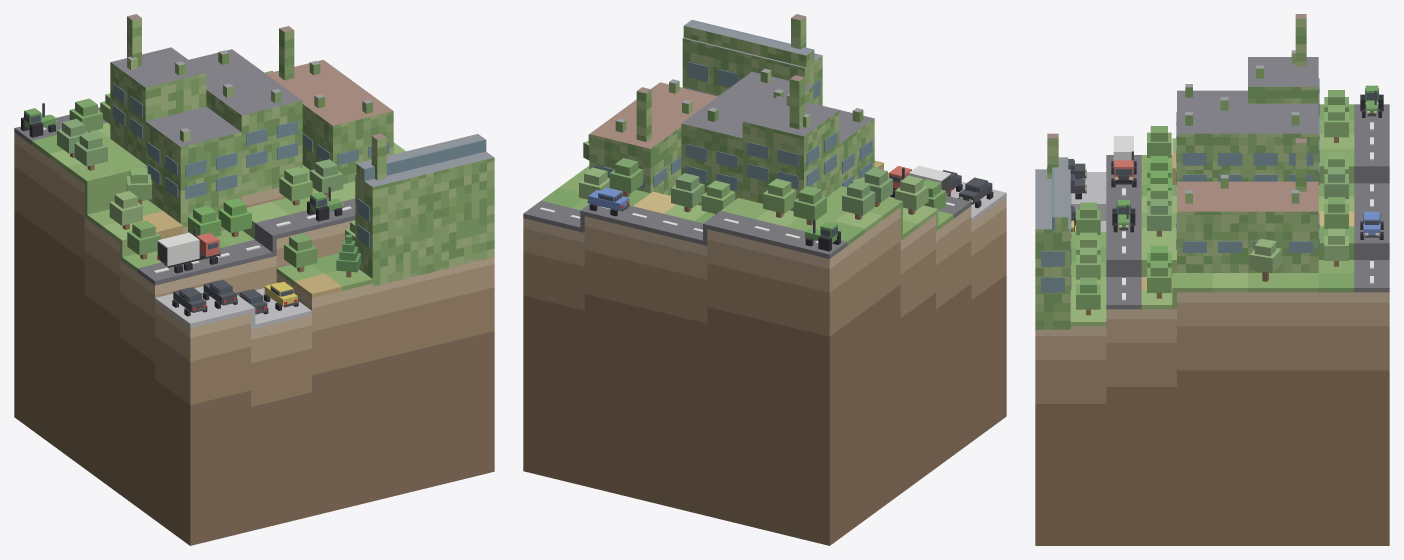
Rendered from block_11_greenfacade_45.glb.
The picture shows the model from 3 angles, left to right: view 1: azimuth 30°, elevation 25°; view 2: azimuth 150°, elevation 25°; view 3: azimuth 270°, elevation 25°; orthographic projection.
Visible parts, largest first — view 1: Patch_LowerLeft_b12_GF, Factories_LowerLeft_b12_GF, Ground_LowerLeft_b12_GF, Roads_LowerLeft_b12_GF, Parking_LowerLeft_b12_GF, Asset_Truck.004_GF, Asset_Tree_Round.040_GF, Asset_Tree_Round.066_GF, Asset_Tree_Round.046_GF, Asset_Tree_Round.053_GF, Asset_Tree_Round.052_GF, Asset_Tree_Round.050_GF (+11 smaller); view 2: Patch_LowerLeft_b12_GF, Factories_LowerLeft_b12_GF, Ground_LowerLeft_b12_GF, Roads_LowerLeft_b12_GF, Asset_Tree_Round.034_GF, Asset_Tree_Round.038_GF, Asset_Tree_Round.030_GF, Asset_Tree_Round.033_GF, Asset_Tree_Round.031_GF, Asset_Tree_Round.046_GF, Asset_Truck.004_GF, Asset_Tree_Round.032_GF (+6 smaller); view 3: Patch_LowerLeft_b12_GF, Factories_LowerLeft_b12_GF, Ground_LowerLeft_b12_GF, Roads_LowerLeft_b12_GF, Asset_Truck.004_GF, Parking_LowerLeft_b12_GF, Asset_Tree_Round.016_GF, Asset_Tree_Round.056_GF, Asset_Tree_Round.035_GF, Asset_Tree_Round.069_GF, Asset_Tree_Round.031_GF, Asset_Tree_Round.054_GF (+8 smaller).
Part boxes in pixels (x1,y1,x2,y2): Patch_LowerLeft_b12_GF: (14, 132, 494, 545); Factories_LowerLeft_b12_GF: (110, 14, 494, 286); Ground_LowerLeft_b12_GF: (32, 122, 405, 298); Roads_LowerLeft_b12_GF: (14, 107, 355, 285); Parking_LowerLeft_b12_GF: (155, 286, 311, 329); Asset_Truck.004_GF: (157, 228, 220, 273); Asset_Tree_Round.040_GF: (74, 131, 107, 170); Asset_Tree_Round.066_GF: (284, 233, 317, 272); Asset_Tree_Round.046_GF: (109, 191, 142, 229); Asset_Tree_Round.053_GF: (279, 166, 312, 205); Asset_Tree_Round.052_GF: (218, 198, 251, 237); Asset_Tree_Round.050_GF: (127, 220, 160, 259); Patch_LowerLeft_b12_GF: (523, 167, 1006, 545); Factories_LowerLeft_b12_GF: (589, 14, 874, 211); Ground_LowerLeft_b12_GF: (541, 160, 953, 245); Roads_LowerLeft_b12_GF: (523, 196, 971, 258); Asset_Tree_Round.034_GF: (609, 158, 643, 197); Asset_Tree_Round.038_GF: (842, 180, 875, 219); Asset_Tree_Round.030_GF: (793, 186, 826, 225); Asset_Tree_Round.033_GF: (671, 173, 704, 212); Asset_Tree_Round.031_GF: (763, 178, 796, 217); Asset_Tree_Round.046_GF: (895, 175, 928, 214); Asset_Truck.004_GF: (888, 165, 951, 197); Asset_Tree_Round.032_GF: (701, 180, 735, 214); Patch_LowerLeft_b12_GF: (1035, 292, 1389, 545); Factories_LowerLeft_b12_GF: (1035, 14, 1319, 329); Ground_LowerLeft_b12_GF: (1070, 104, 1354, 326); Roads_LowerLeft_b12_GF: (1106, 104, 1389, 309); Asset_Truck.004_GF: (1111, 136, 1136, 187); Parking_LowerLeft_b12_GF: (1071, 172, 1106, 231); Asset_Tree_Round.016_GF: (1249, 238, 1281, 281); Asset_Tree_Round.056_GF: (1147, 260, 1171, 298); Asset_Tree_Round.035_GF: (1324, 228, 1348, 266); Asset_Tree_Round.069_GF: (1076, 277, 1100, 315); Asset_Tree_Round.031_GF: (1324, 105, 1348, 142); Asset_Tree_Round.054_GF: (1147, 199, 1171, 236).
Size of the model in its own units: 9.52 by 12.34 by 9.5.
